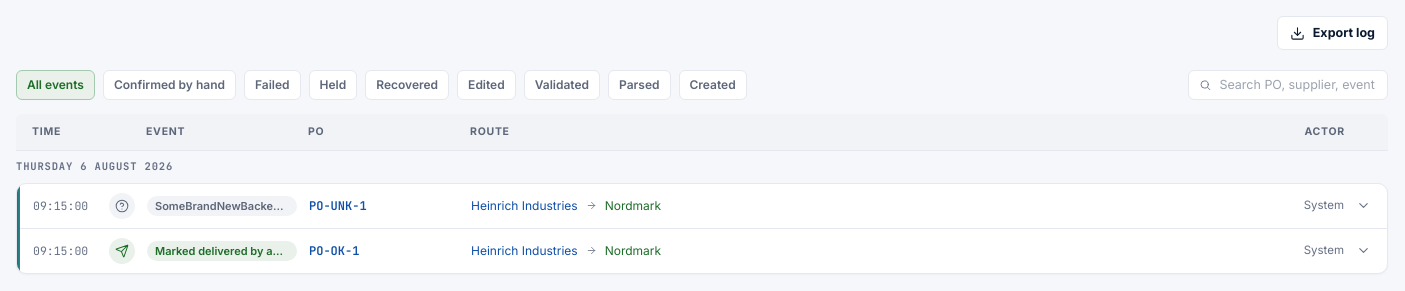
Test: CrossingsLog — an action this build does not know › is excluded from the delivered-kind chip
expect the text "PO-UNK-1" is shown: met, box [309,198,367,214]
Click the button "Confirmed by hand". click: (169, 85)
box: [103,70,236,100]
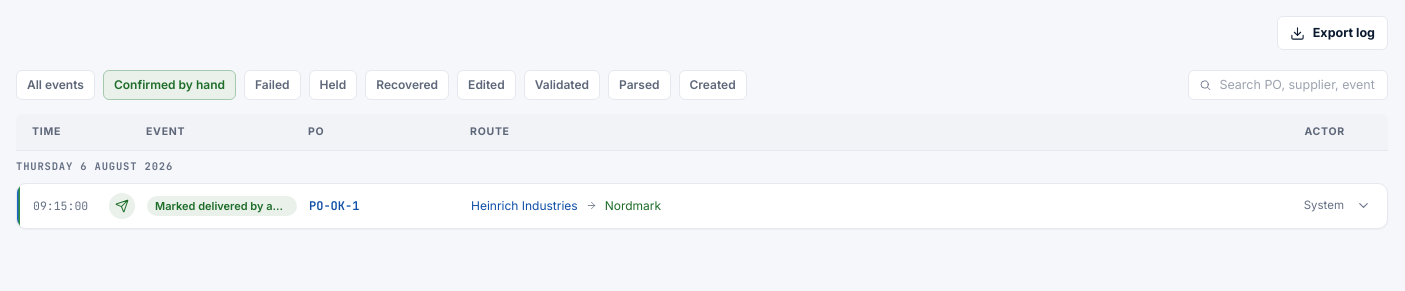
expect the text "PO-OK-1" is shown: met, box [309,198,359,214]
expect the button "PO-UNK-1" is gone: met
